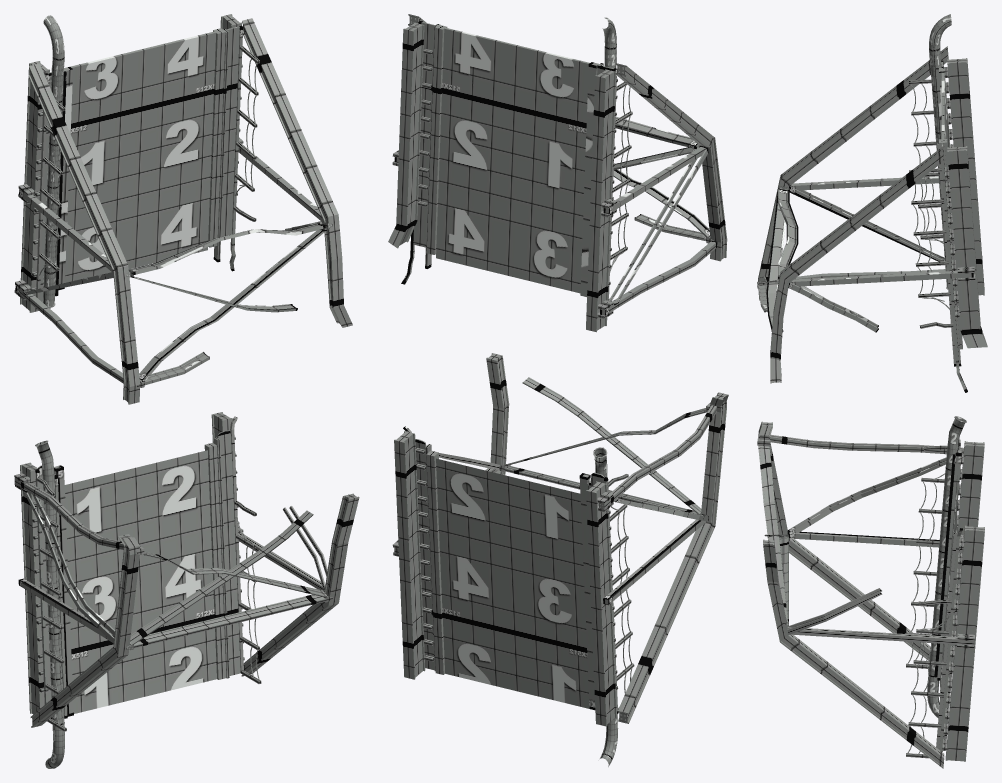
File: gully_bridge01.glb
The picture shows the model from 3 angles, left to right: view 1: azimuth 30°, elevation 25°; view 2: azimuth 150°, elevation 25°; view 3: azimuth 270°, elevation 25°; orthographic projection. The views are drawn at different scales.
Bounding box in the file's own units: 371 × 1094 × 323.
1 material, 1 textured.
